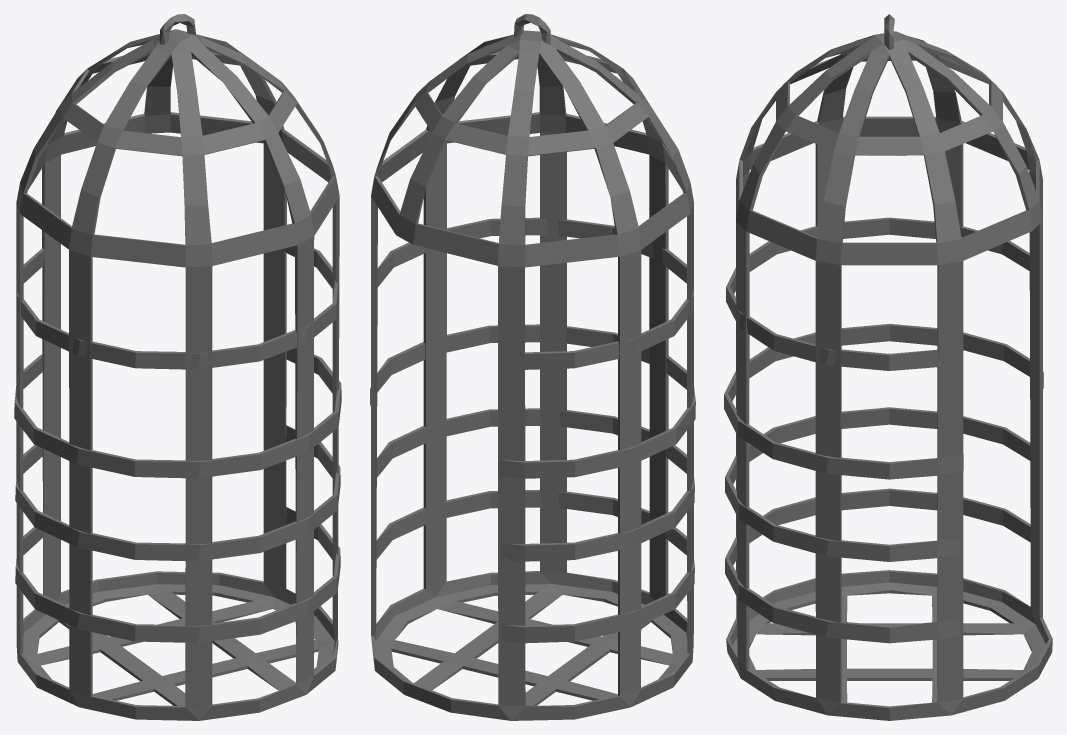
Rendered from LPCP_Cage20.fbx.
The picture shows the model from 3 angles, left to right: view 1: azimuth 30°, elevation 25°; view 2: azimuth 150°, elevation 25°; view 3: azimuth 270°, elevation 25°; orthographic projection.
Visible parts, largest first — view 1: LPCP_Cage20; view 2: LPCP_Cage20; view 3: LPCP_Cage20.
Boxes of the visible parts, <box> form: LPCP_Cage20: <box>14,14,341,720</box>; LPCP_Cage20: <box>370,14,695,720</box>; LPCP_Cage20: <box>724,14,1052,720</box>.
Bounding box in the file's own units: 2.61 × 5.55 × 2.59.
